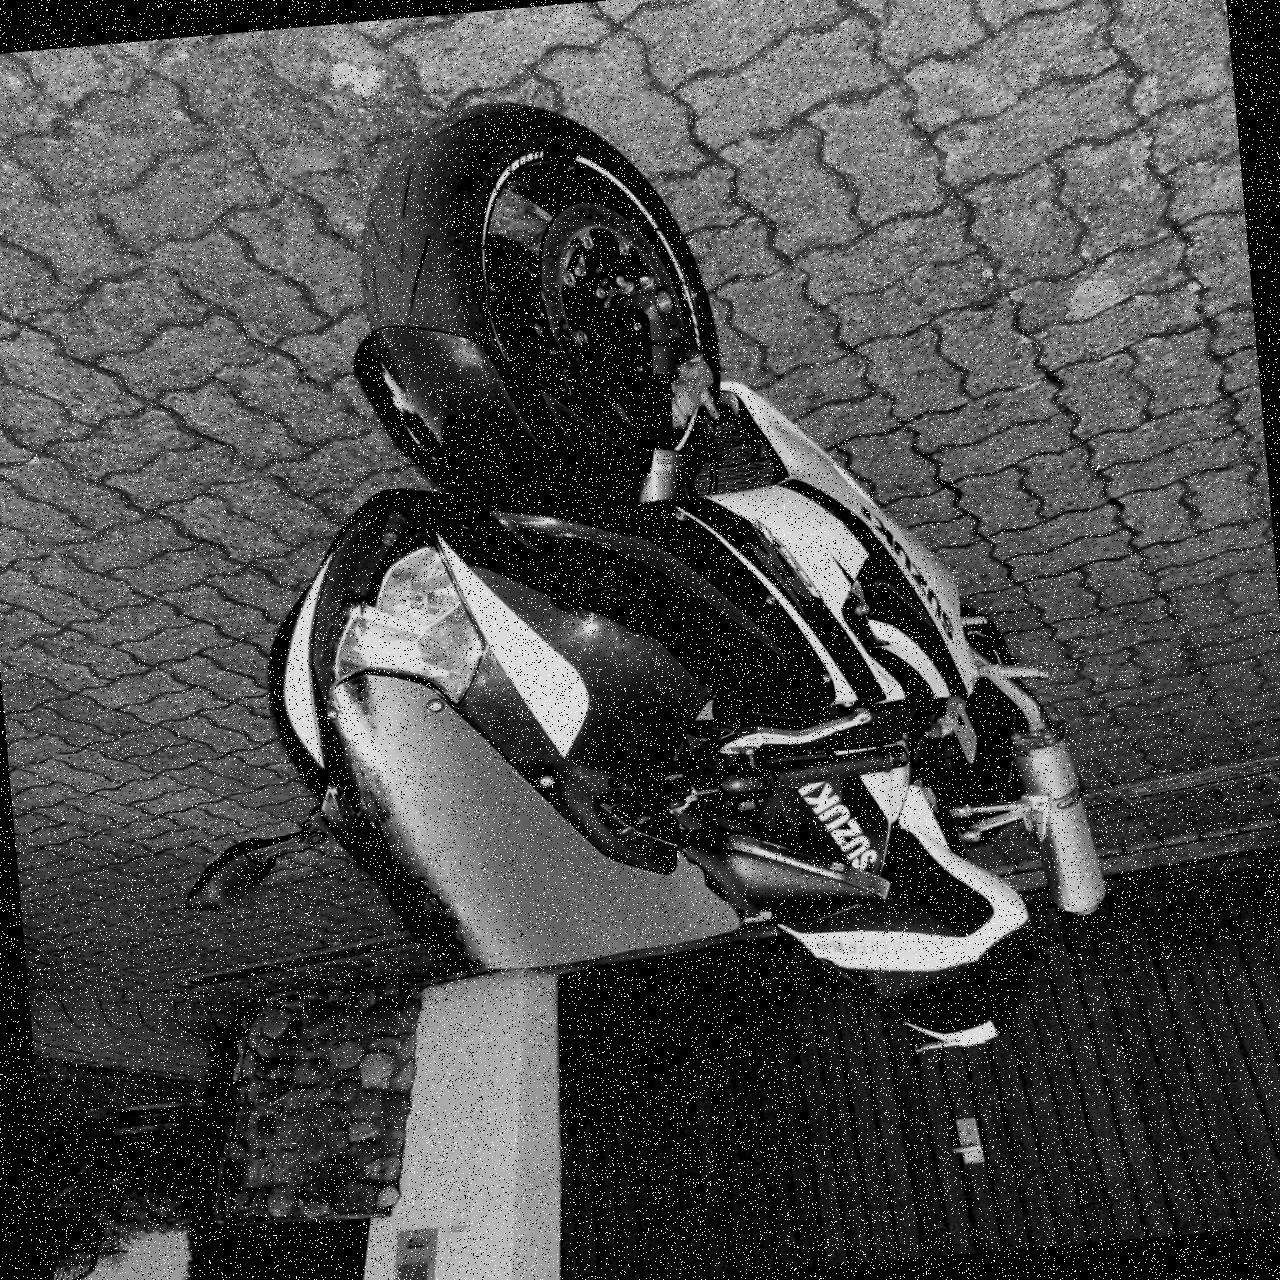MB: (101, 48, 1158, 1121)
